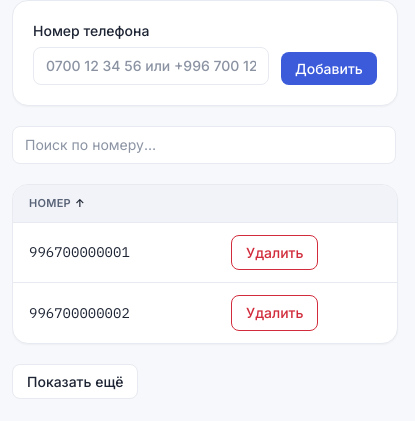
shows "Показать ещё", loads and appends the next page, then hides once exhausted
Click the button "Показать ещё": x=75, y=381 [12,364,138,399]
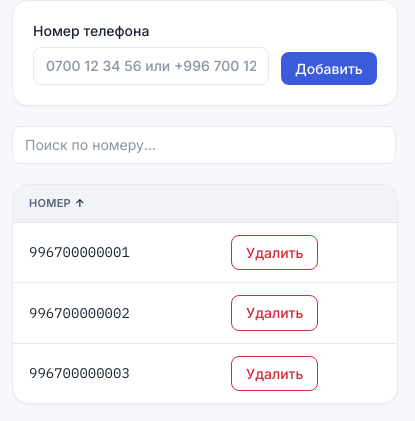
Expected: the text "996700000003" is shown, [13,343,215,403]
Expected: the button "Показать ещё" is gone
